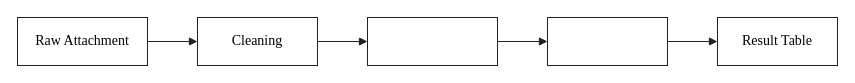
Image size: 855x83. Some labels were removed from this diagram. The box of each missing label's shape, as (x1, y1, x2, y2) in pixels:
Feature Table: (366, 16, 498, 66)
Model Input: (546, 16, 668, 66)
